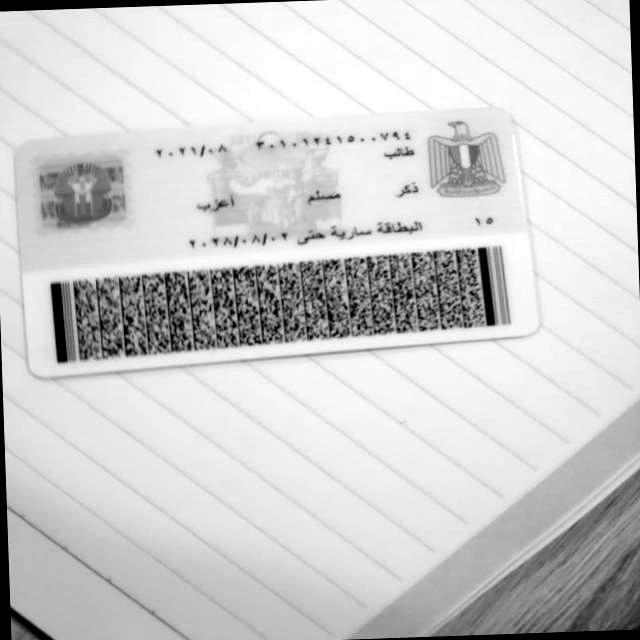back: (16, 109, 538, 377)
